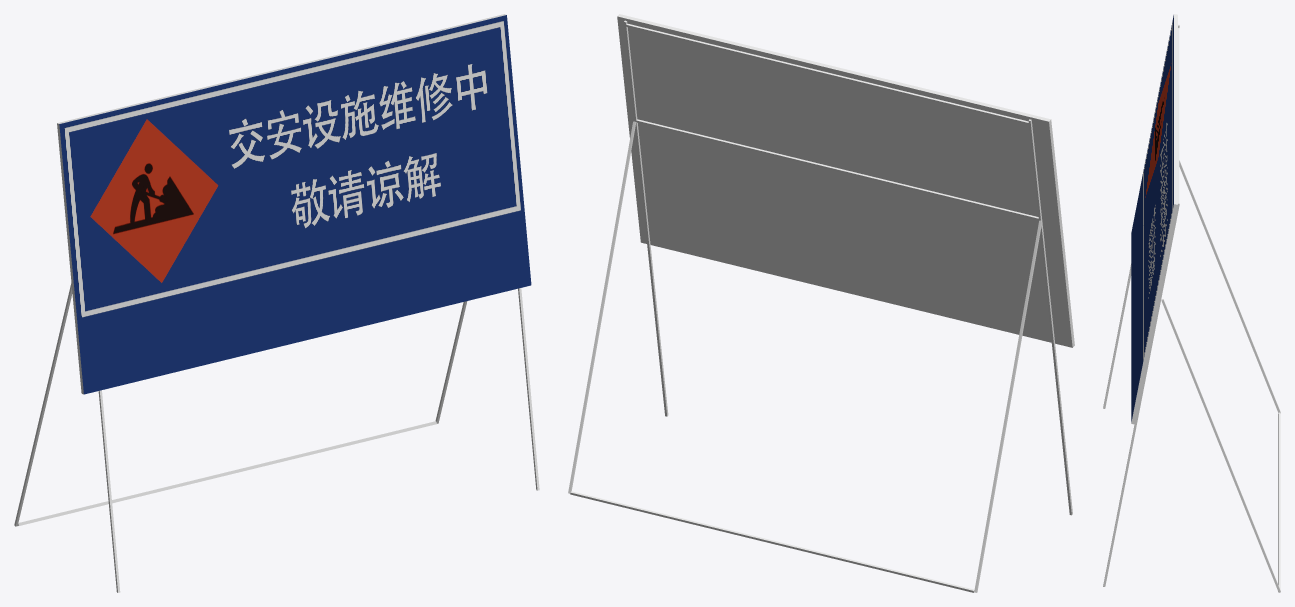
The model's file is 维护中敬请谅解.glb.
3 renders of one model, left to right at view 1: azimuth 30°, elevation 25°; view 2: azimuth 150°, elevation 25°; view 3: azimuth 270°, elevation 25°, orthographic. The views are drawn at different scales.
Visible parts, largest first — view 1: 立方体.2-材质.6, 立方体.2-材质_5, 立方体.18, 立方体.19, 立方体.9, 立方体.8; view 2: 立方体.2-材质_5, 立方体.18, 立方体.11, 立方体.10, 立方体.8, 立方体.9, 立方体.19, 立方体.12; view 3: 立方体.2-材质.6, 立方体.2-材质_5, 立方体.8, 立方体.12, 立方体.19, 立方体.18, 立方体.9, 立方体.10.
Boxes of the visible parts, x1,y1,x2,y2 form: 立方体.2-材质.6: [59, 15, 531, 394]; 立方体.2-材质_5: [57, 14, 506, 394]; 立方体.18: [18, 421, 436, 525]; 立方体.19: [14, 283, 72, 526]; 立方体.9: [98, 390, 120, 592]; 立方体.8: [518, 288, 539, 490]; 立方体.2-材质_5: [617, 14, 1074, 347]; 立方体.18: [570, 491, 974, 592]; 立方体.11: [636, 119, 1039, 220]; 立方体.10: [626, 23, 1028, 124]; 立方体.8: [624, 20, 668, 416]; 立方体.9: [1028, 119, 1072, 515]; 立方体.19: [974, 220, 1042, 592]; 立方体.12: [568, 121, 636, 493]; 立方体.2-材质.6: [1131, 15, 1173, 421]; 立方体.2-材质_5: [1131, 14, 1177, 424]; 立方体.8: [1103, 203, 1179, 586]; 立方体.12: [1161, 299, 1280, 592]; 立方体.19: [1179, 160, 1280, 413]; 立方体.18: [1278, 412, 1280, 591]; 立方体.9: [1103, 24, 1179, 408]; 立方体.10: [1178, 28, 1179, 202].
Bounding box in the file's own units: 14.09 × 13.57 × 5.57.
3 materials, 1 textured.
